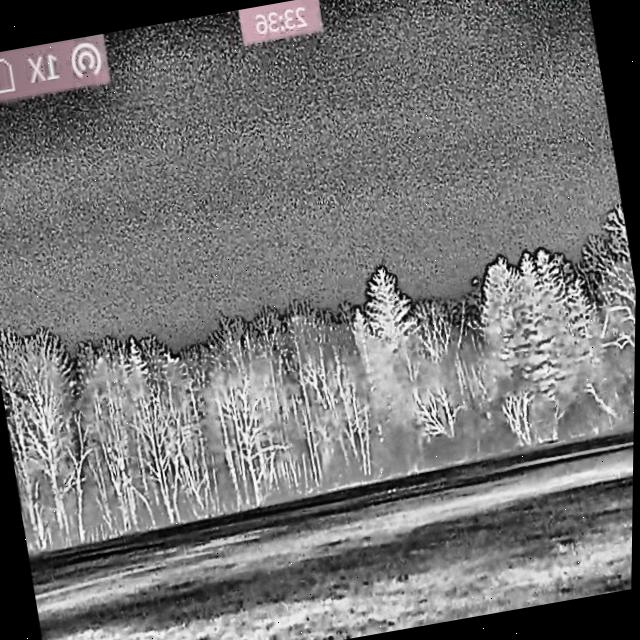drone: (471, 276, 480, 286)
